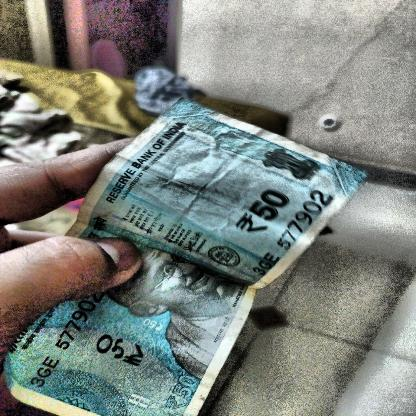Rs50: (226, 181, 300, 241)
